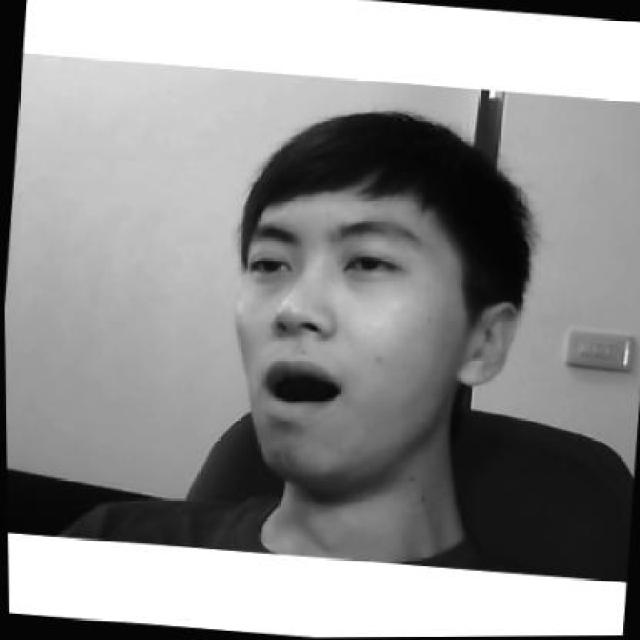inattentif: (215, 98, 533, 494)
